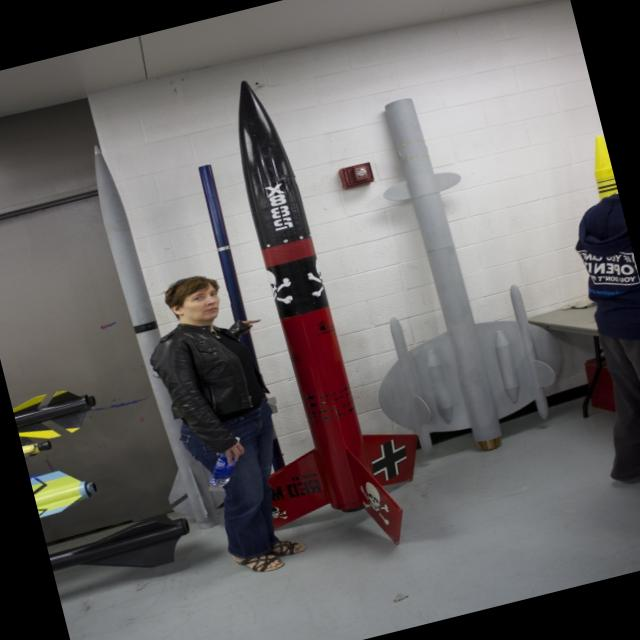rocket: (182, 38, 551, 560)
